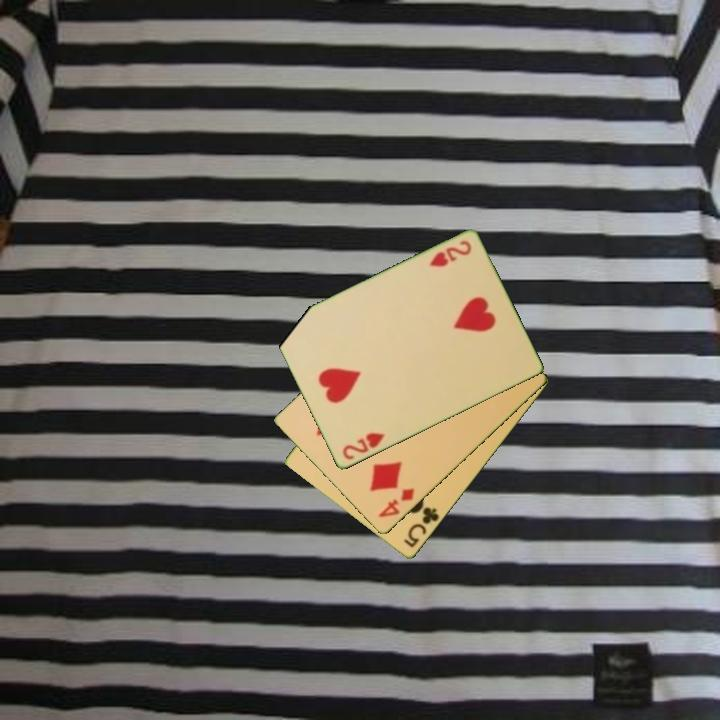2h: (339, 429, 388, 463), (425, 237, 474, 270)
4d: (374, 485, 417, 521)
5c: (400, 502, 442, 551)
